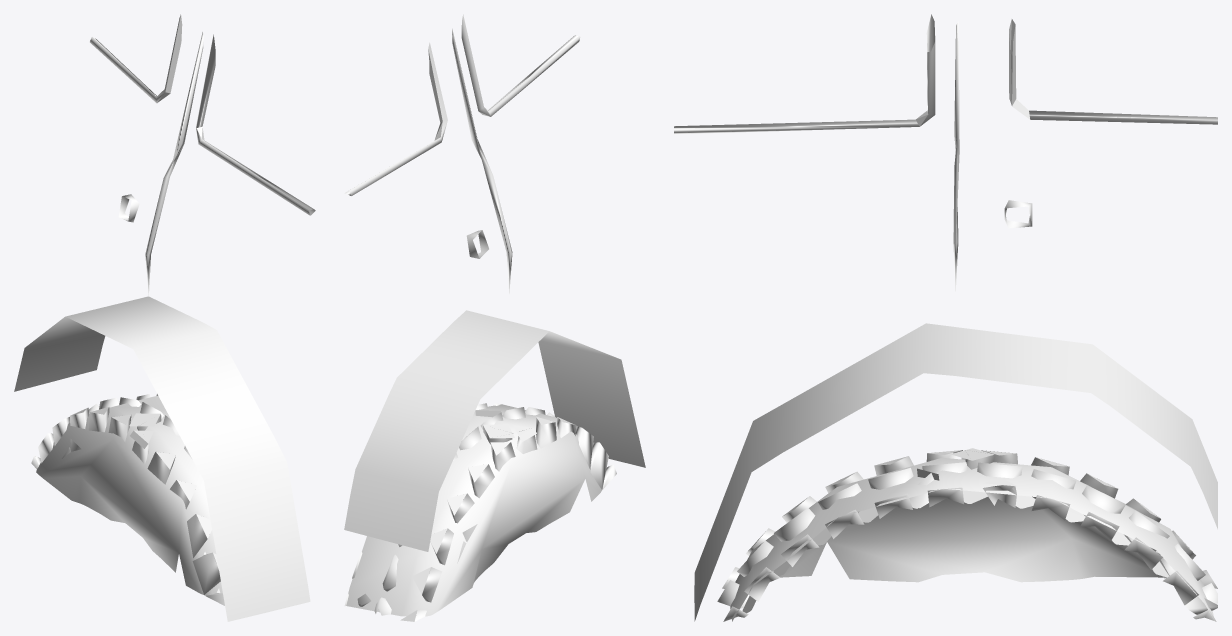
3 views of the same model, side by side, from view 1: azimuth 30°, elevation 25°; view 2: azimuth 150°, elevation 25°; view 3: azimuth 270°, elevation 25° (orthographic). The views are drawn at different scales.
Bounding box in the file's own units: 0.287 × 1.65 × 1.33.
1 material, 1 textured.
